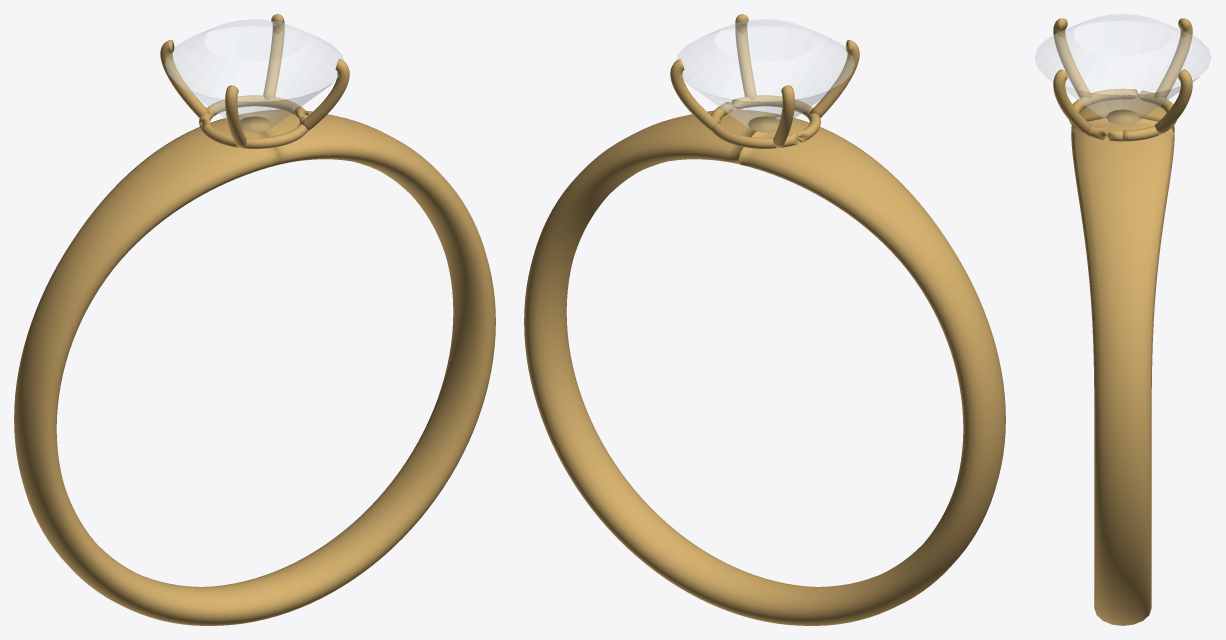
File: bands-reverse-tapered.glb
3 renders of one model, left to right at view 1: azimuth 30°, elevation 25°; view 2: azimuth 150°, elevation 25°; view 3: azimuth 270°, elevation 25°, orthographic.
Parts seen in each view (by area): view 1: Band, Gem, Lower gallery, Prong.001, Prong, Prong.003, Prong.002; view 2: Band, Gem, Lower gallery, Prong.002, Prong.003, Prong, Prong.001; view 3: Band, Gem, Lower gallery, Prong.001, Prong.002, Prong, Prong.003, Head stem.
Part boxes in pixels (left/top/right/bottom): Band: left=14, top=109, right=495, bottom=625; Gem: left=165, top=19, right=343, bottom=132; Lower gallery: left=199, top=95, right=308, bottom=148; Prong.001: left=160, top=40, right=210, bottom=117; Prong: left=263, top=14, right=284, bottom=99; Prong.003: left=299, top=59, right=349, bottom=131; Prong.002: left=225, top=85, right=246, bottom=148; Band: left=524, top=109, right=1005, bottom=625; Gem: left=676, top=19, right=854, bottom=132; Lower gallery: left=711, top=95, right=820, bottom=148; Prong.002: left=809, top=40, right=859, bottom=117; Prong.003: left=735, top=14, right=756, bottom=99; Prong: left=670, top=59, right=720, bottom=131; Prong.001: left=773, top=85, right=794, bottom=148; Band: left=1071, top=97, right=1174, bottom=625; Gem: left=1035, top=14, right=1210, bottom=124; Lower gallery: left=1069, top=88, right=1176, bottom=141; Prong.001: left=1154, top=18, right=1192, bottom=98; Prong.002: left=1053, top=18, right=1091, bottom=98; Prong: left=1154, top=69, right=1192, bottom=135; Prong.003: left=1053, top=69, right=1091, bottom=135; Head stem: left=1106, top=109, right=1139, bottom=124.
Size of the model in its own units: 19.6 by 22.94 by 6.5.
